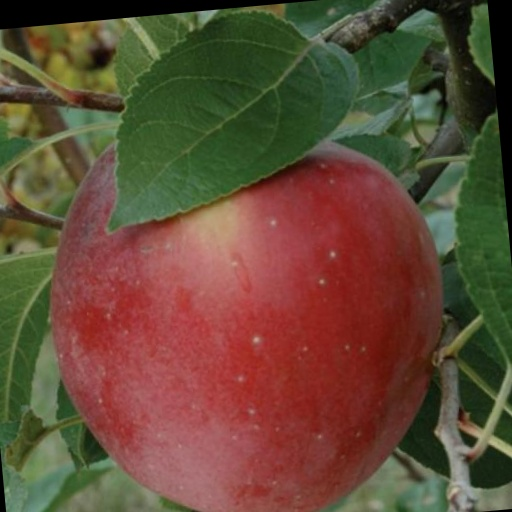fruit: (51, 143, 441, 512)
